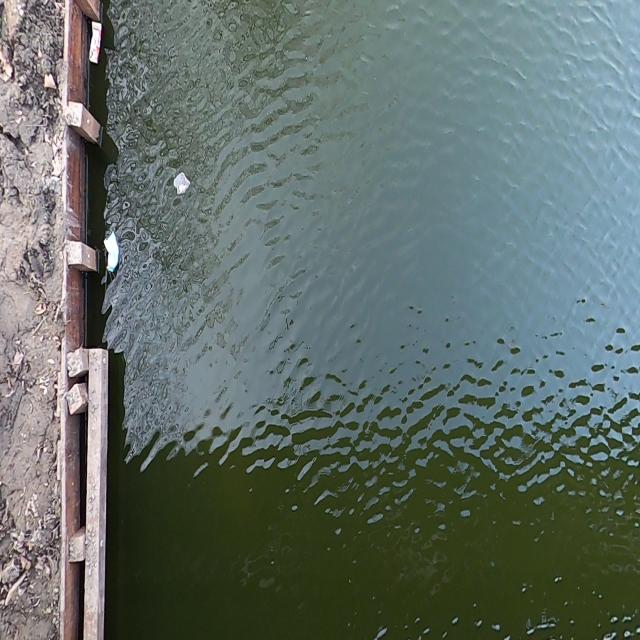Autre plastique: (86, 20, 106, 70), (171, 168, 193, 199)
Non plastique: (100, 227, 122, 281)
